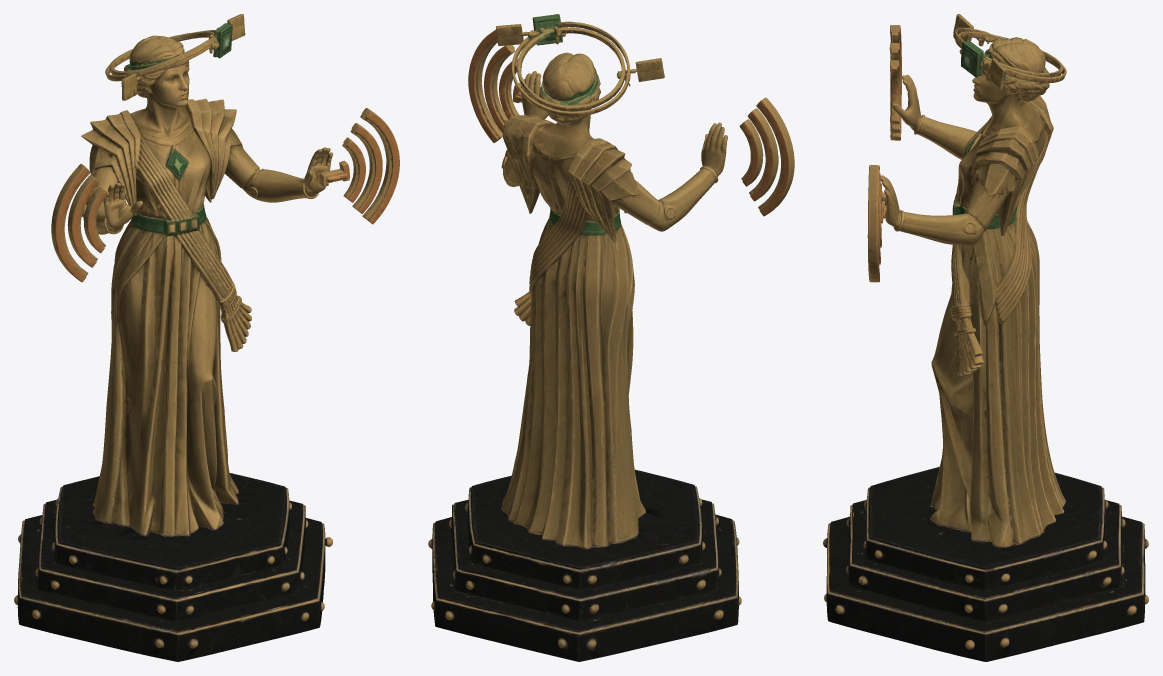
File: communication.glb
The picture shows the model from 3 angles, left to right: view 1: azimuth 30°, elevation 25°; view 2: azimuth 150°, elevation 25°; view 3: azimuth 270°, elevation 25°; orthographic projection.
Size of the model in its own units: 1.19 by 1.9 by 0.9956.
Materials: 1 (1 with a texture image).
